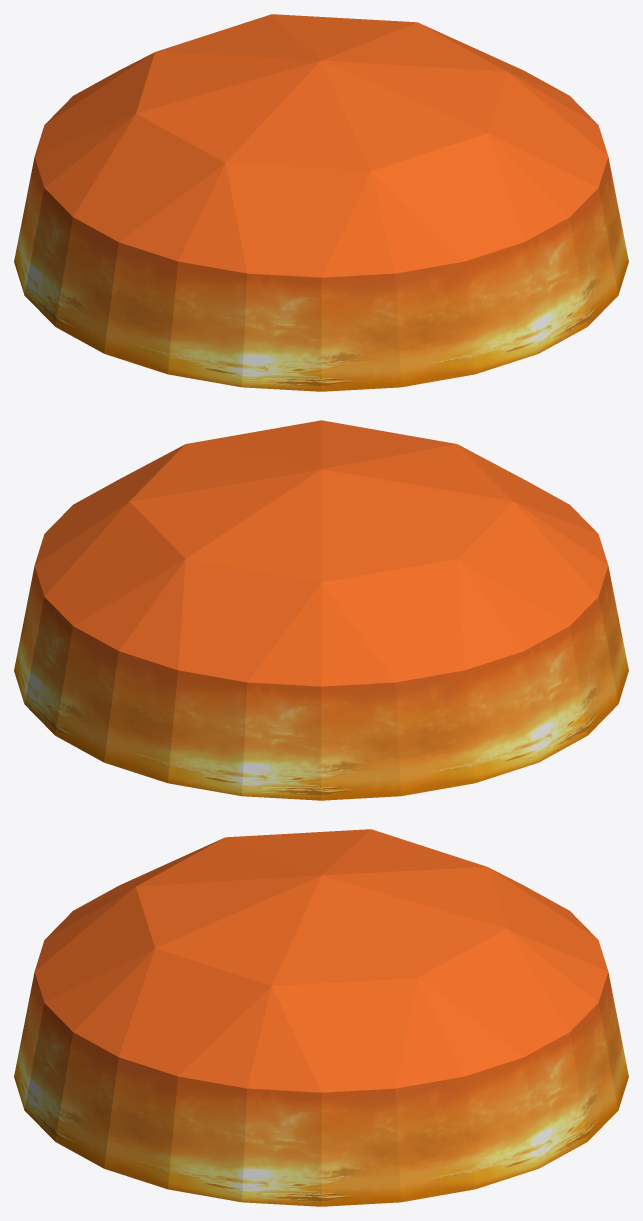
Rendered from Seaside Hill 3.fbx.
3 views of the same model, one above another, from view 1: azimuth 30°, elevation 25°; view 2: azimuth 150°, elevation 25°; view 3: azimuth 270°, elevation 25° (orthographic).
Visible parts, largest first — view 1: Seaside hill 3; view 2: Seaside hill 3; view 3: Seaside hill 3.
Part boxes in pixels (box(x1,y1,x2,y2)): Seaside hill 3: box(14, 14, 628, 391); Seaside hill 3: box(14, 420, 628, 800); Seaside hill 3: box(14, 829, 628, 1206).
Bounding box in the file's own units: 10000000 × 3639172 × 9999999.
